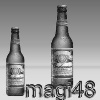beer: (6, 25, 31, 95)
